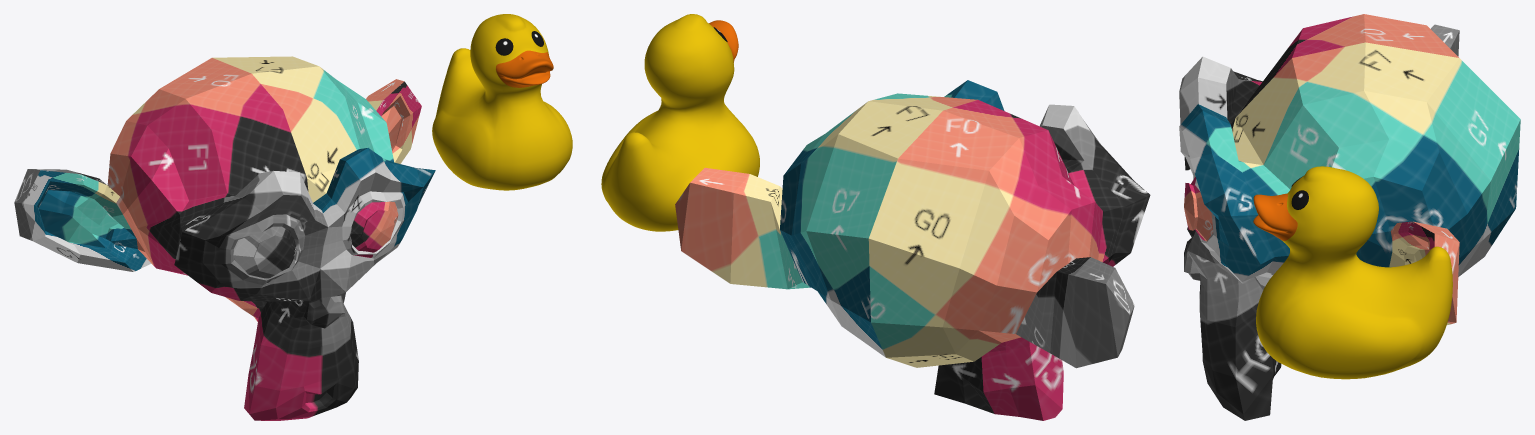
3 renders of one model, left to right at view 1: azimuth 30°, elevation 25°; view 2: azimuth 150°, elevation 25°; view 3: azimuth 270°, elevation 25°, orthographic. The views are drawn at different scales.
Parts seen in each view (by area): view 1: Suzanne, Mesh_0.001; view 2: Suzanne, Mesh_0.001; view 3: Suzanne, Mesh_0.001.
Part boxes in pixels (box(x1,y1,x2,y2)): Suzanne: box(14, 56, 435, 420); Mesh_0.001: box(432, 14, 572, 190); Suzanne: box(675, 80, 1150, 420); Mesh_0.001: box(601, 14, 759, 231); Suzanne: box(1179, 14, 1520, 420); Mesh_0.001: box(1253, 166, 1452, 379).
Bounding box in the file's own units: 3.37 × 2.04 × 1.7.
2 materials, 2 textured.
